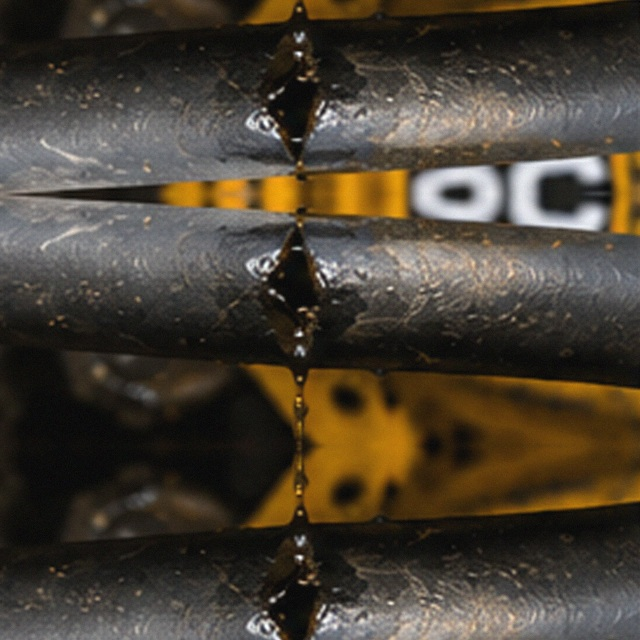hydraulic_oil_leak: (189, 189, 437, 420)
